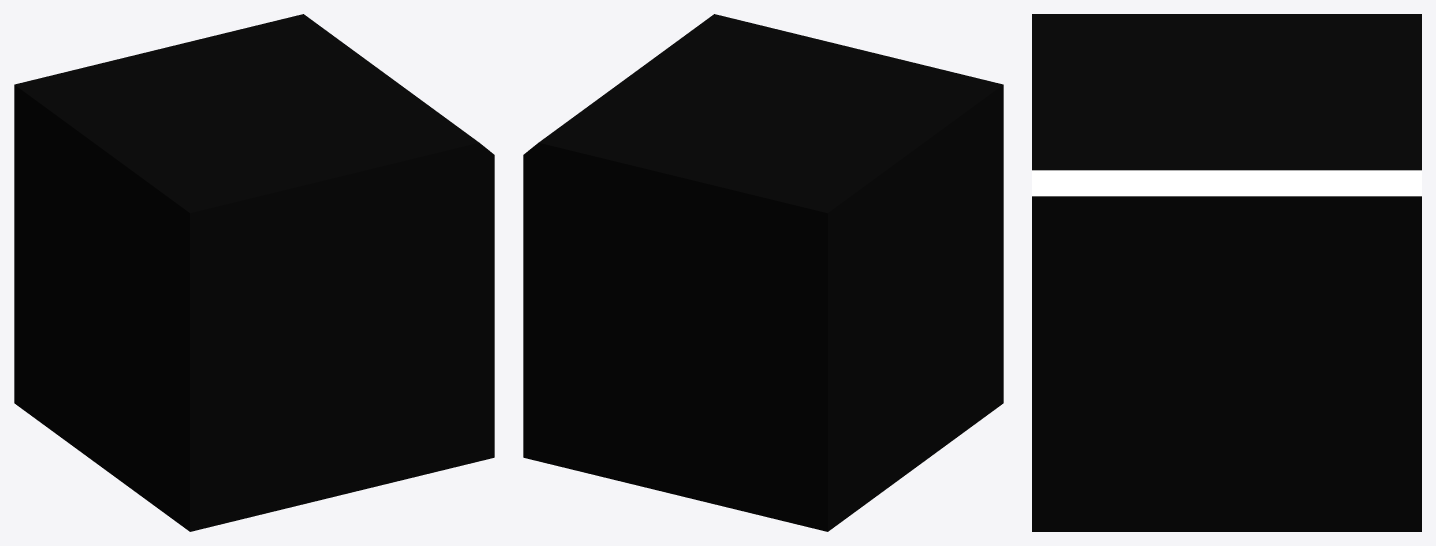
The model's file is Wall1Side.fbx.
The picture shows the model from 3 angles, left to right: view 1: azimuth 30°, elevation 25°; view 2: azimuth 150°, elevation 25°; view 3: azimuth 270°, elevation 25°; orthographic projection. The views are drawn at different scales.
Visible parts, largest first — view 1: Cube.007; view 2: Cube.007; view 3: Cube.007.
Part boxes in pixels (left/top/right/bottom): Cube.007: left=14, top=14, right=494, bottom=531; Cube.007: left=523, top=14, right=1003, bottom=531; Cube.007: left=1032, top=14, right=1421, bottom=531.
Bounding box in the file's own units: 200 × 200 × 200.
